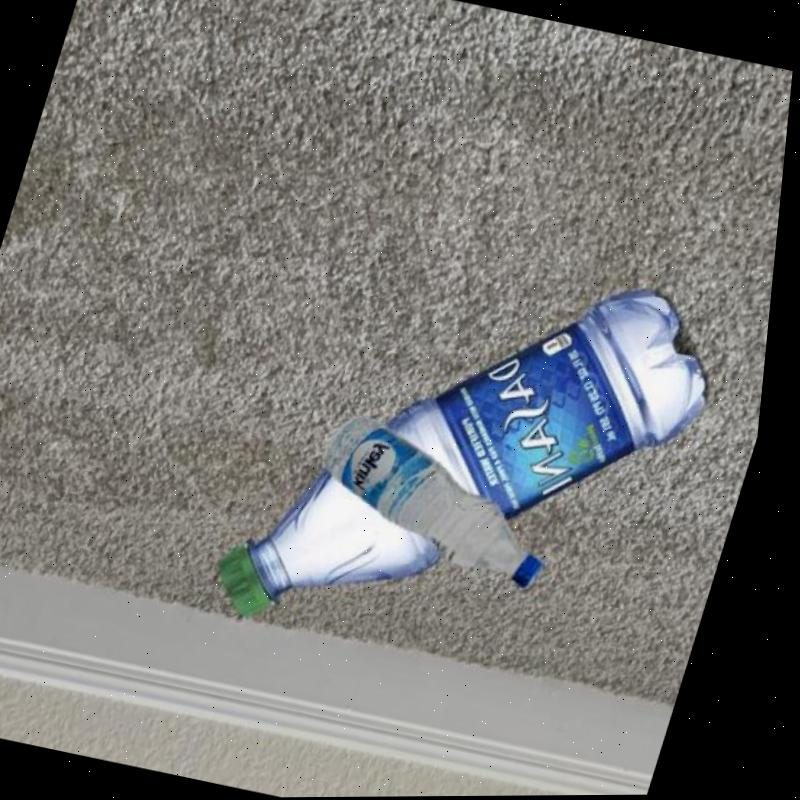botella: (207, 215, 751, 697), (297, 407, 588, 594)
